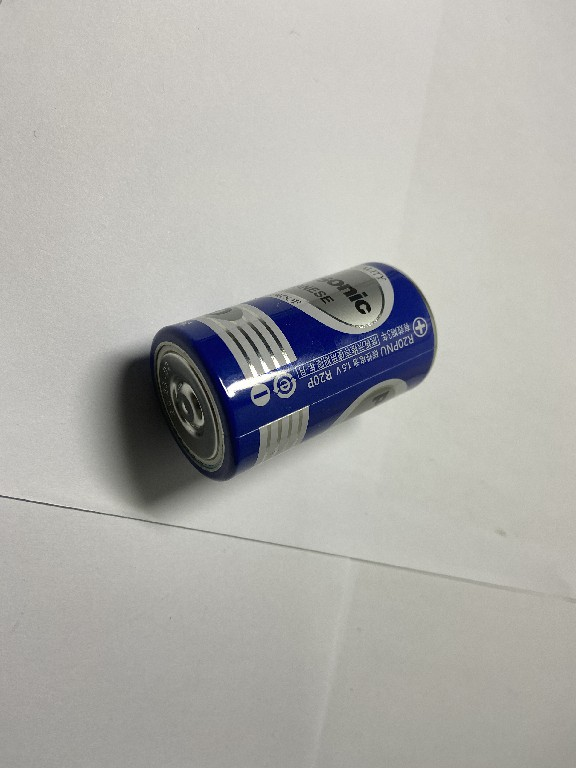charge: (142, 257, 444, 487)
